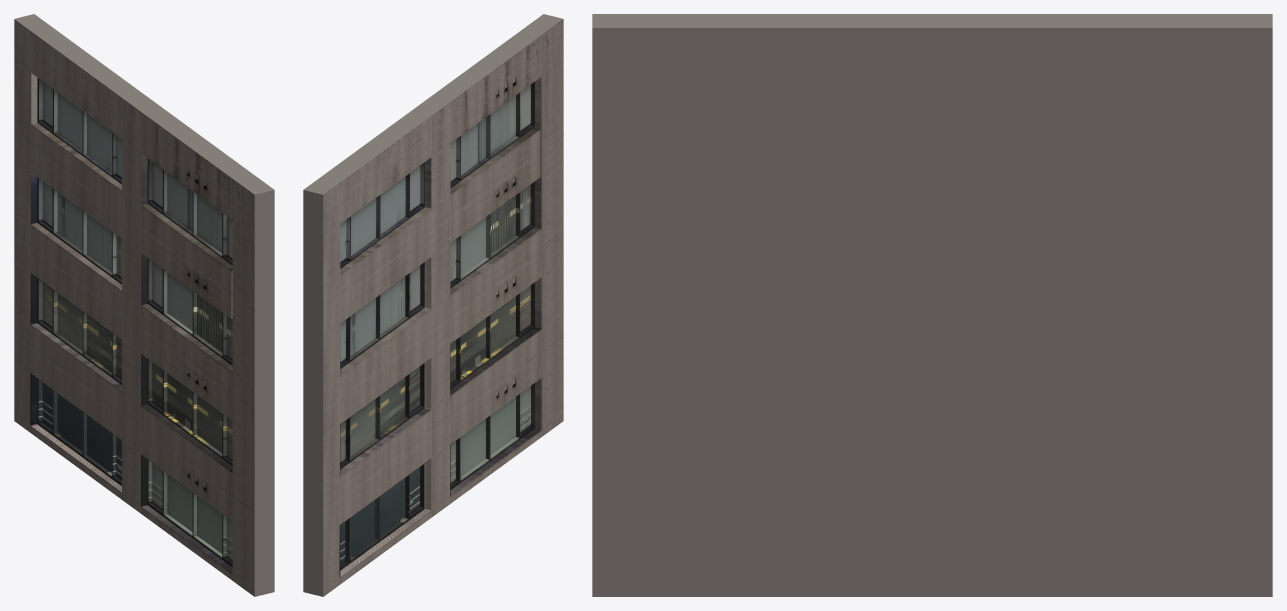
File: facade4.fbx
The picture shows the model from 3 angles, left to right: view 1: azimuth 30°, elevation 25°; view 2: azimuth 150°, elevation 25°; view 3: azimuth 270°, elevation 25°; orthographic projection. The views are drawn at different scales.
Parts seen in each view (by area): view 1: facade4.002; view 2: facade4.002; view 3: facade4.002.
Part boxes in pixels (bbox=[...]): facade4.002: bbox=[14, 14, 274, 596]; facade4.002: bbox=[303, 14, 563, 596]; facade4.002: bbox=[592, 14, 1272, 596].
Bounding box in the file's own units: 2.3 × 43.87 × 47.55.
2 materials, 2 textured.
